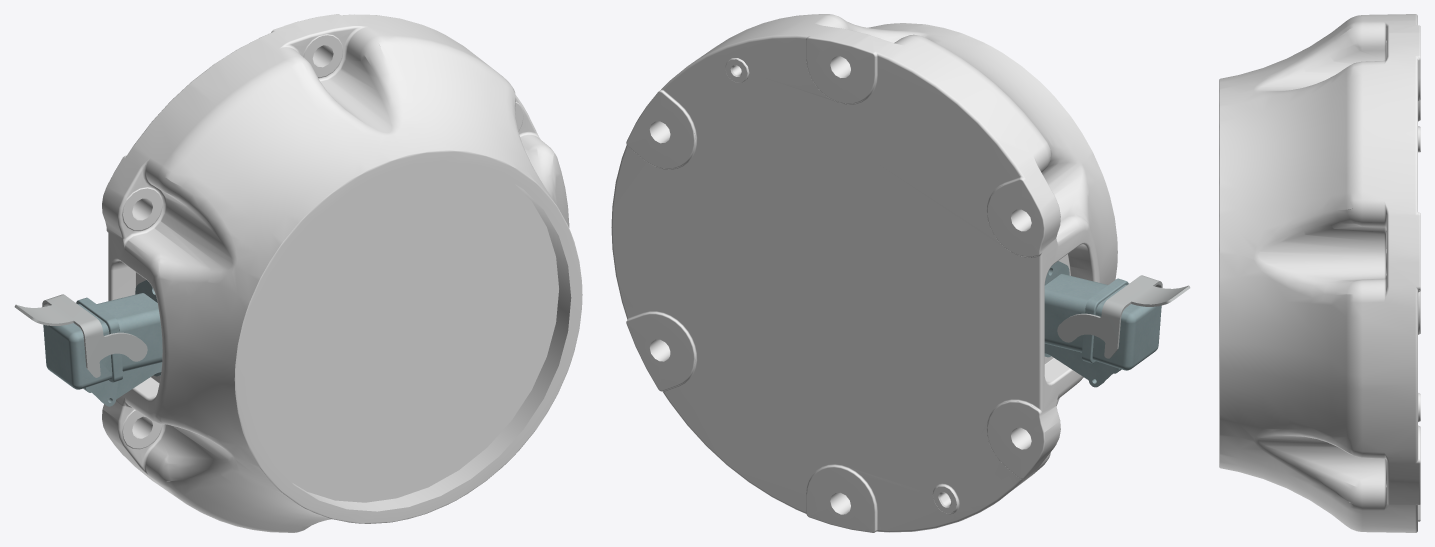
The model's file is Link0_body.glb.
3 renders of one model, left to right at view 1: azimuth 30°, elevation 25°; view 2: azimuth 150°, elevation 25°; view 3: azimuth 270°, elevation 25°, orthographic. The views are drawn at different scales.
Parts seen in each view (by area): view 1: Link0_body.STL; view 2: Link0_body.STL; view 3: Link0_body.STL.
Boxes of the visible parts, x1=… form: Link0_body.STL: x1=14, y1=14, x2=582, y2=532; Link0_body.STL: x1=611, y1=14, x2=1190, y2=532; Link0_body.STL: x1=1219, y1=14, x2=1420, y2=532.
Bounding box in the file's own units: 0.2344 × 0.1998 × 0.0775.
1 material, 1 textured.
